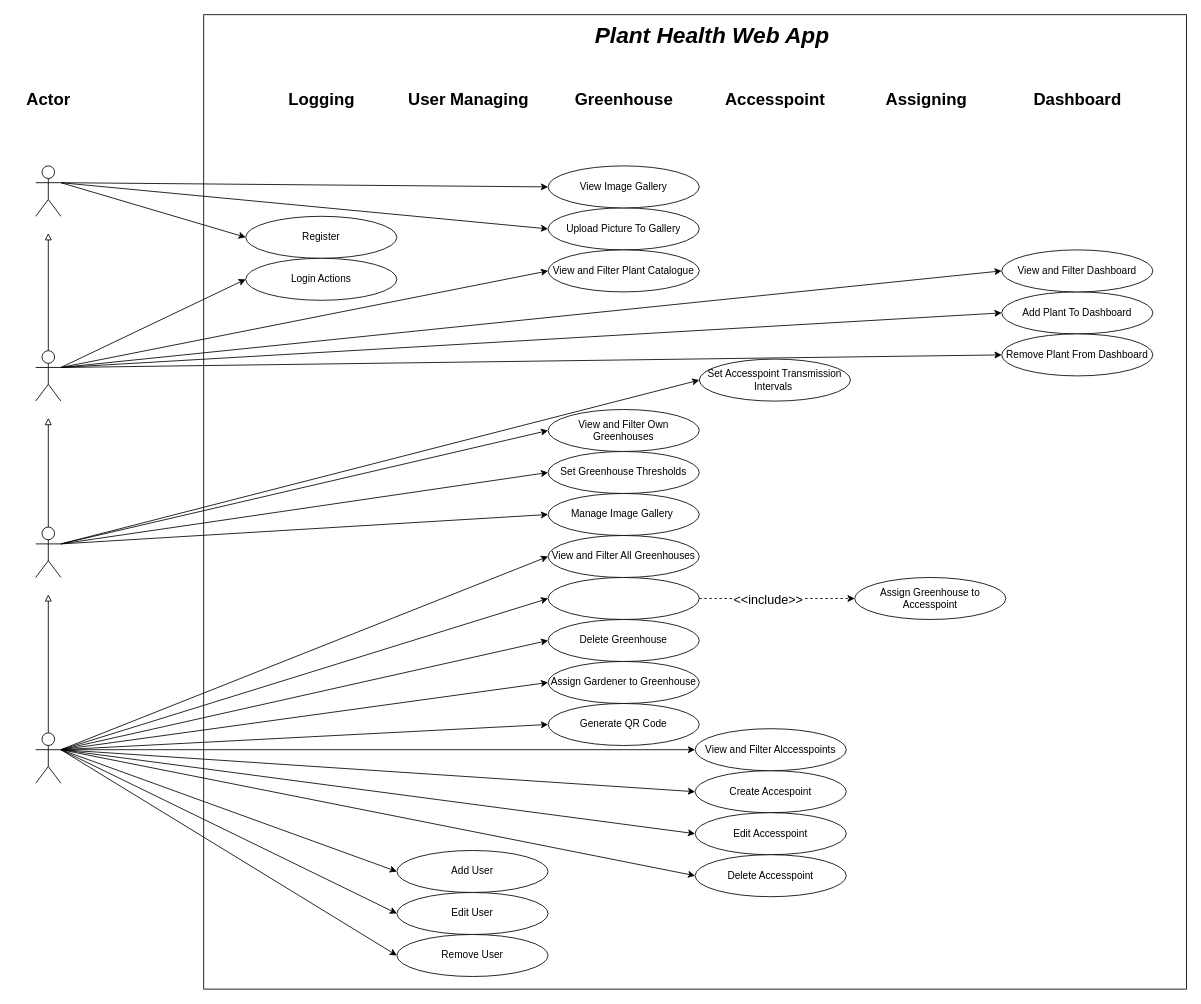
This 1201x1004 diagram has some shape labels left out. The shapes that lost their labels are listed below. From the top down, each one's centre as x and y in pixels, then its label:
point (48, 190): Guest
point (48, 375): User
point (48, 552): Gardener
point (623, 598): Add Greenhouse
point (48, 757): Administrator
